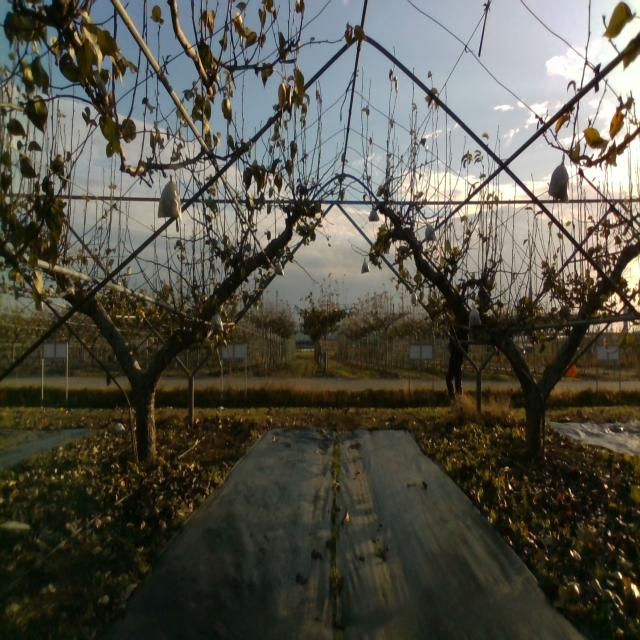pearbags: (548, 152, 569, 202), (157, 180, 182, 220), (468, 304, 482, 328), (210, 312, 226, 333), (425, 222, 437, 245), (369, 205, 380, 222)
